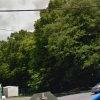Tree: (31, 6, 100, 84)
